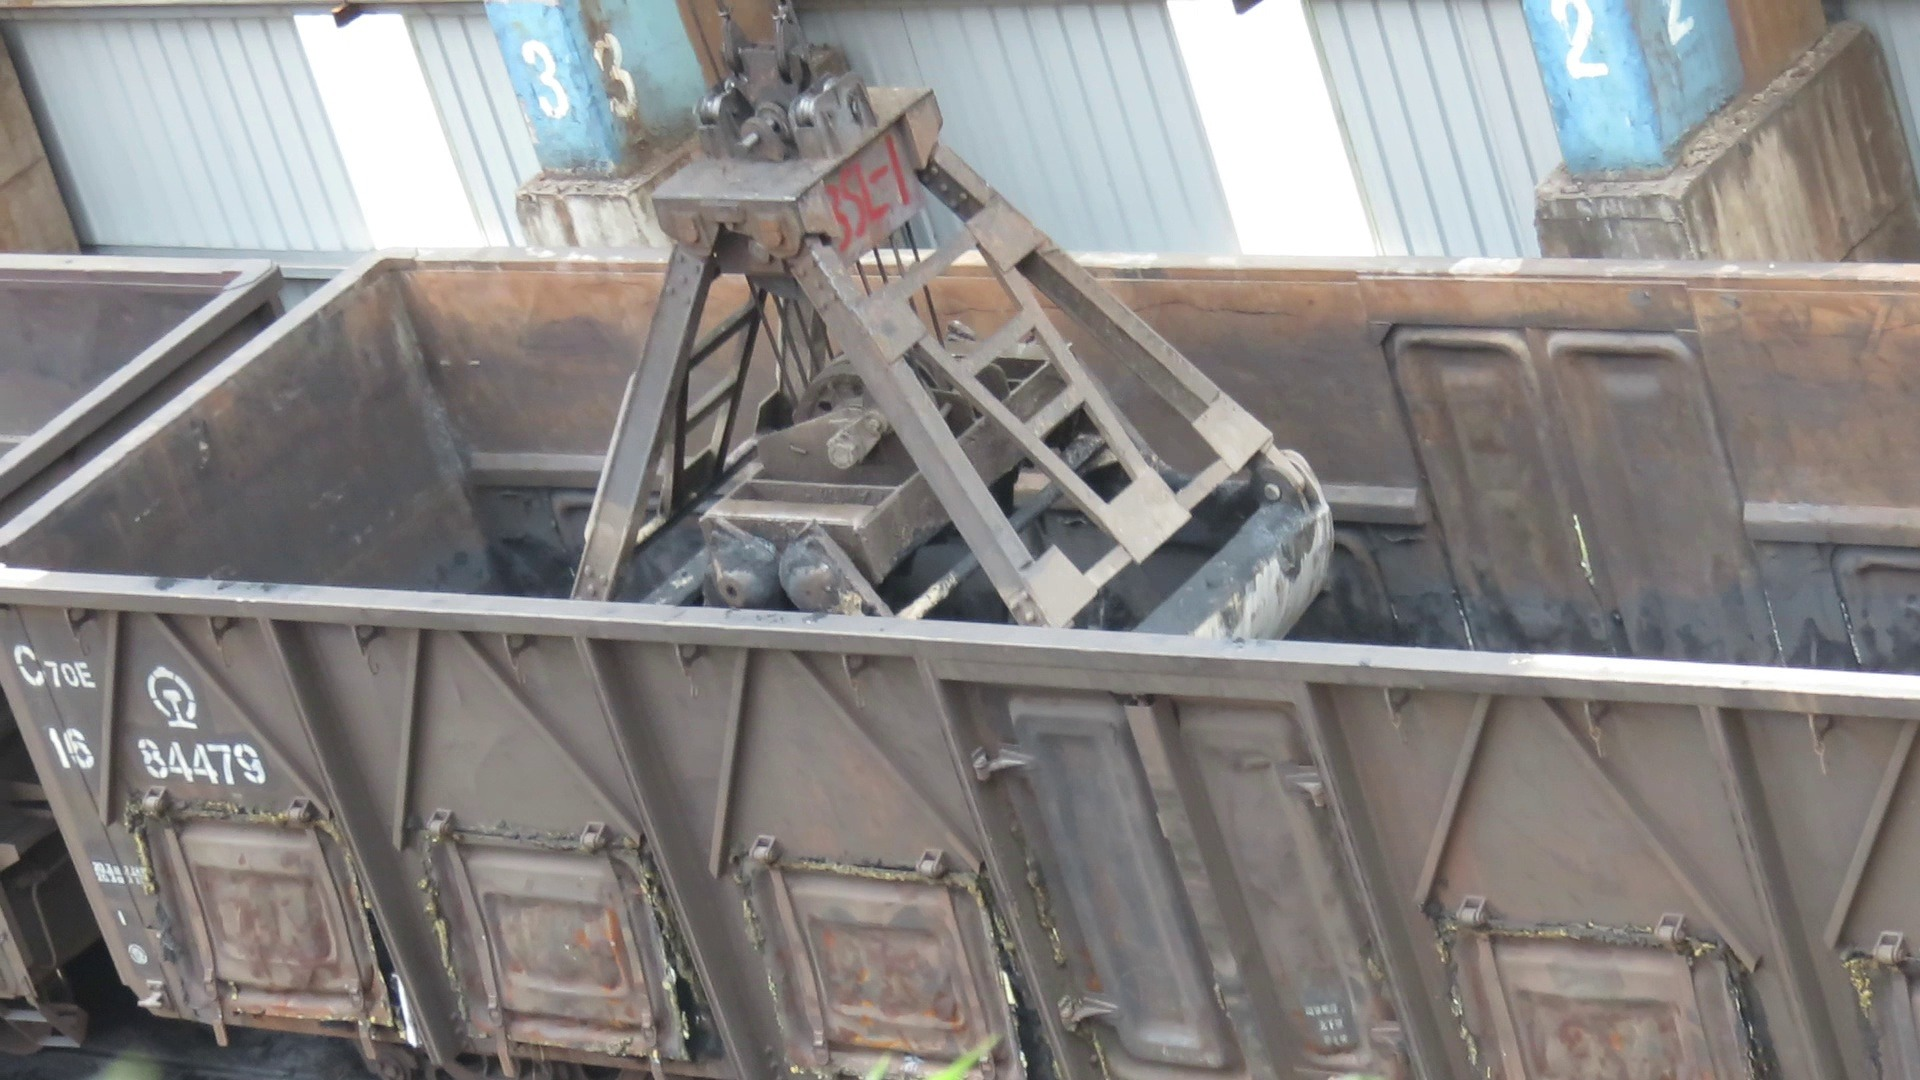grab: (563, 32, 1338, 655)
